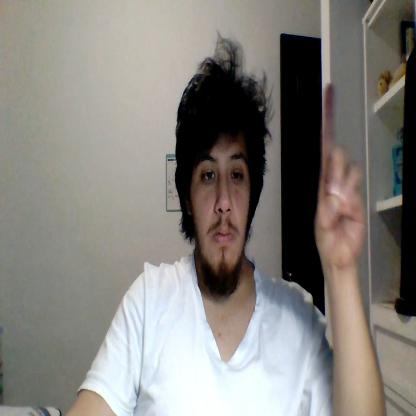D: (316, 83, 366, 265)
